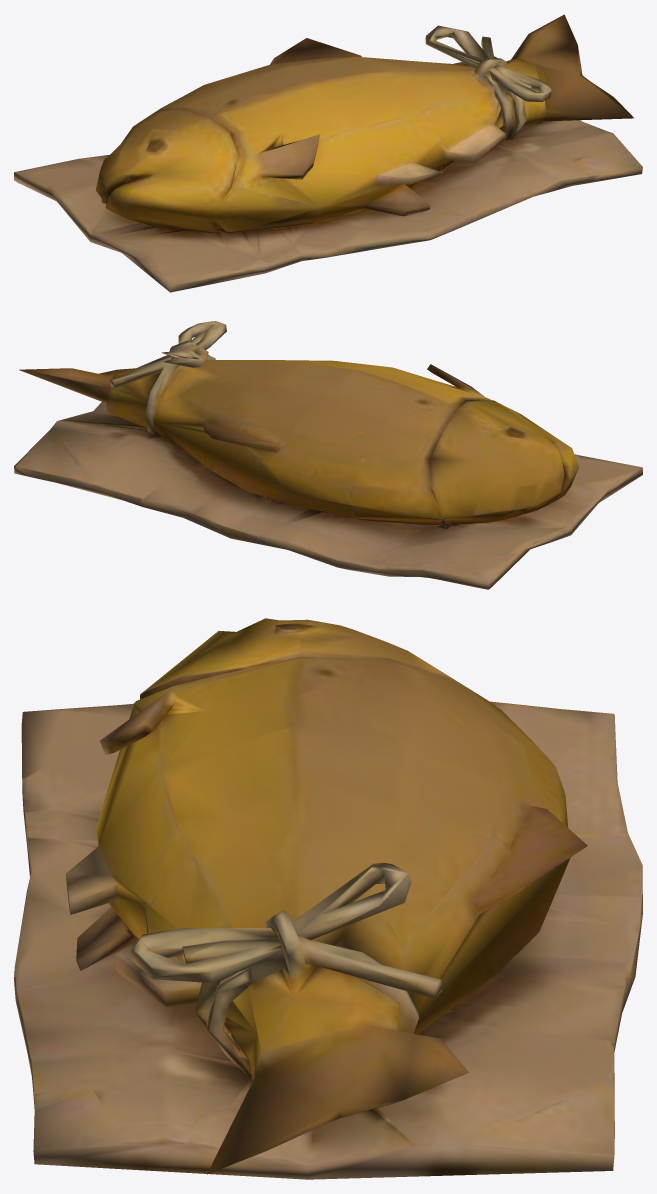
Rendered from g_xunyu.glb.
The picture shows the model from 3 angles, top to bottom: view 1: azimuth 30°, elevation 25°; view 2: azimuth 150°, elevation 25°; view 3: azimuth 270°, elevation 25°; orthographic projection. The views are drawn at different scales.
Parts seen in each view (by area): view 1: node_0; view 2: node_0; view 3: node_0.
Boxes of the visible parts, x1,y1,x2,y2 form: node_0: (14, 14, 642, 292); node_0: (14, 321, 642, 589); node_0: (14, 618, 642, 1179).
Size of the model in its own units: 1.06 by 0.2276 by 0.5873.
Materials: 1 (1 with a texture image).
